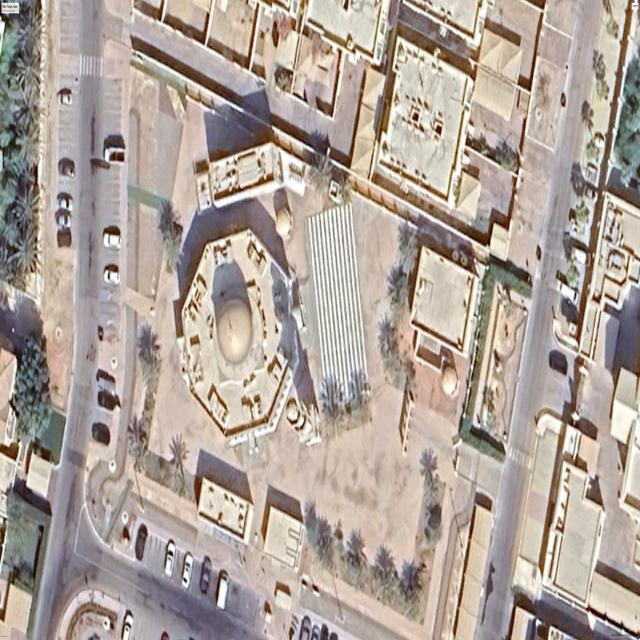mosque: (178, 228, 299, 444)
